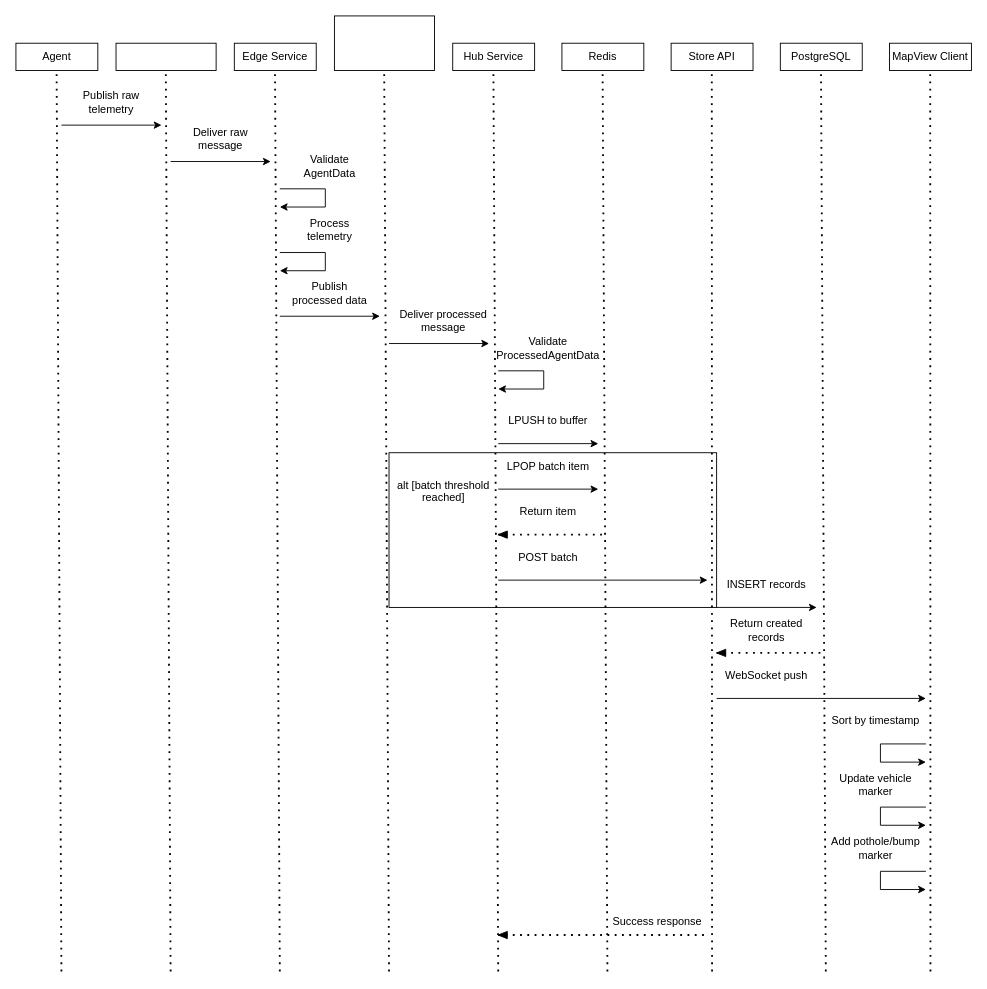
Some shapes in this 987 by 989 pixel diagram are drawn without their labels. Each missing label, with the centre of its shape:
"MQTT Broker (processed topic)" goes at point (384, 43).
"MQTT Broker (raw topic)" goes at point (165, 56).
